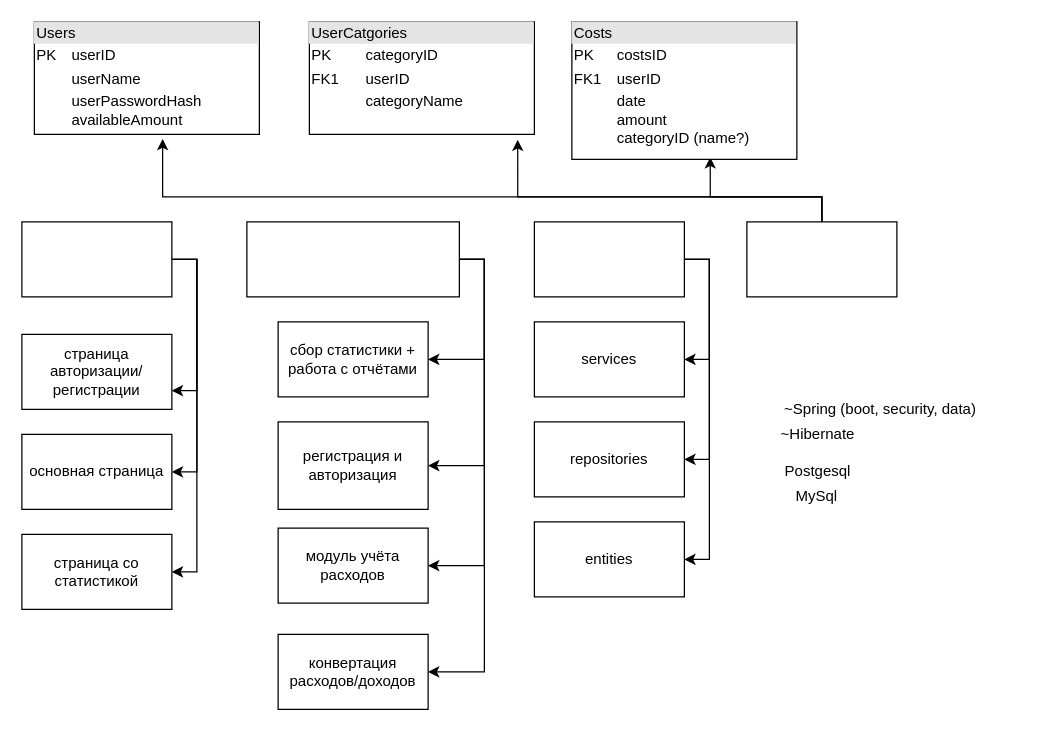
The diagram is 1053 pixels wide and 731 high, and some of its shapes have lost their labels. The centre of each missing label's shape, as x and y in pixels:
DAO: point 608,259
БД: point 821,259
фронт (html, css, js): point 96,259
функционал (бизнес-логика): point 352,259
